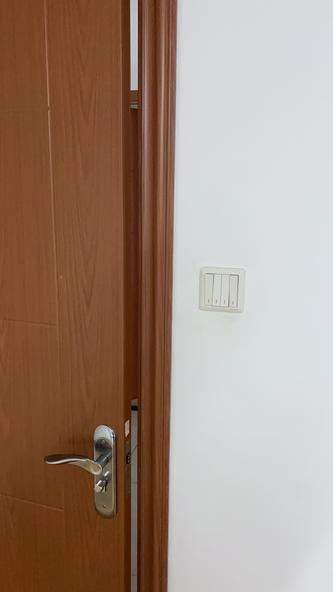switch: (201, 273, 215, 308), (211, 272, 223, 308), (220, 272, 231, 310), (228, 273, 239, 311)
